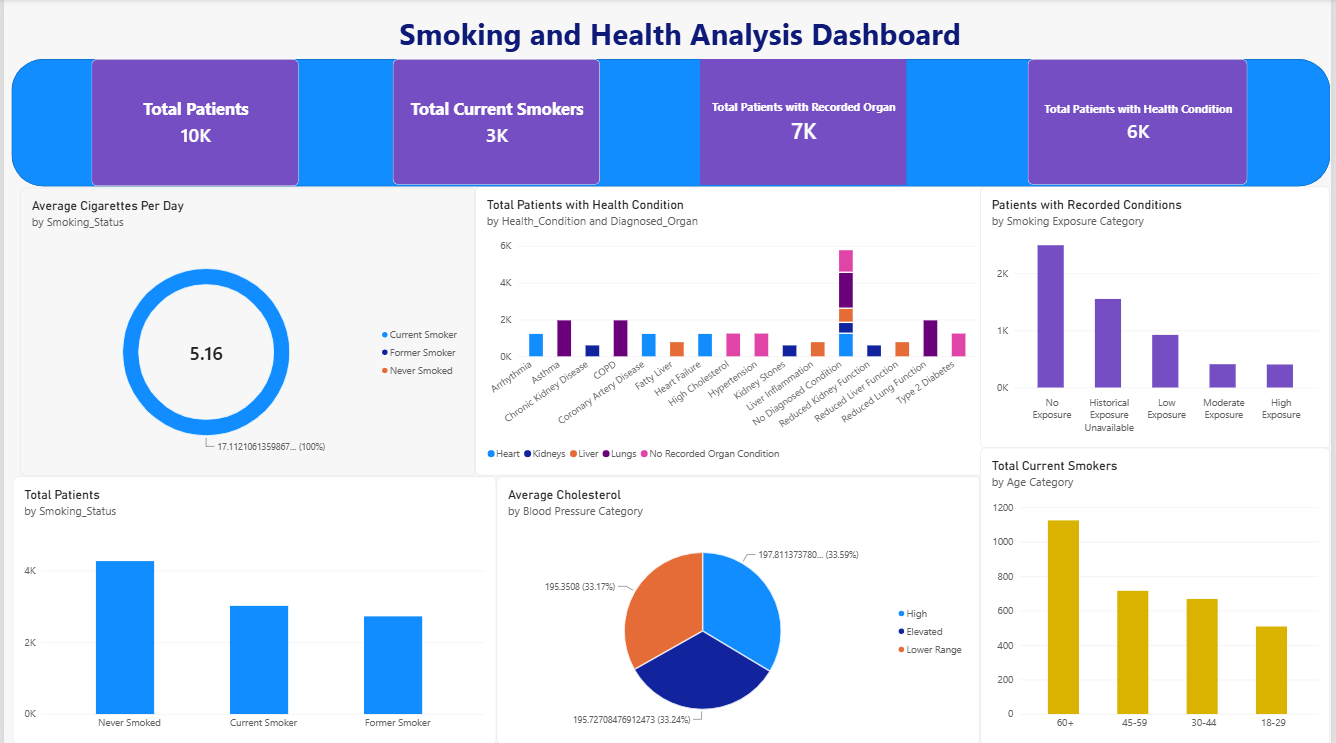

This screenshot's page, from the dashboard's own definition file:
{"tool":"powerbi","page":{"name":"Page 1","canvas":[1920,1080],"ordinal":0},"visuals":[{"type":"textbox","box":[10,580,280,280],"z":0},{"type":"donutChart","fields":{"Category":["Smoking_Health_Analysis.Smoking_Status"],"Y":["Smoking_Health_Analysis.Average Cigarettes Per Day"]},"box":[23.5,273.3,658.7,417.8],"z":1000},{"type":"columnChart","fields":{"Category":["Smoking_Health_Analysis.Health_Condition"],"Series":["Smoking_Health_Analysis.Diagnosed_Organ"],"Y":["Smoking_Health_Analysis.Total Patients with Health Condition"]},"box":[682.2,271.4,743.8,418],"z":2000},{"type":"columnChart","fields":{"Category":["Smoking_Health_Analysis.Smoking_Status"],"Y":["Smoking_Health_Analysis.Total Patients"]},"box":[12.7,691.3,700.3,389.1],"z":3000},{"type":"pieChart","fields":{"Category":["Smoking_Health_Analysis.Blood Pressure Category"],"Y":["Smoking_Health_Analysis.Average Cholesterol"]},"box":[713,691.3,700.3,389.1],"z":4000},{"type":"clusteredColumnChart","fields":{"Category":["Smoking_Health_Analysis.Age Category"],"Y":["Smoking_Health_Analysis.Total Current Smokers"]},"box":[1413.3,649.7,506.7,430.7],"z":5000},{"type":"columnChart","fields":{"Category":["Smoking_Health_Analysis.Smoking Exposure Category"],"Y":["Smoking_Health_Analysis.Patients with Recorded Conditions"]},"box":[1413.3,271.4,506.7,378.2],"z":6000},{"type":"shape","box":[10.9,86.9,1909.2,184.6],"z":7000},{"type":"cardVisual","fields":{"Data":["Smoking_Health_Analysis.Total Patients with Recorded Organ"]},"box":[1008,86.9,298.6,182.8],"z":7010},{"type":"cardVisual","fields":{"Data":["Smoking_Health_Analysis.Total Patients with Health Condition"]},"box":[1482.1,86.9,318.5,182.8],"z":7011},{"type":"cardVisual","fields":{"Data":["Smoking_Health_Analysis.Total Patients"]},"box":[126.7,86.9,300.4,184.6],"z":7012},{"type":"cardVisual","fields":{"Data":["Smoking_Health_Analysis.Total Current Smokers"]},"box":[562.8,86.9,300.4,182.8],"z":7013},{"type":"textbox","box":[99.5,19.9,1759,94.1],"z":7015}]}

Visuals, with their boxes in screenshot pixels (x1, y1, x2, y2), scaled from the page's 1920x1080 canvas onto the 1336x743 screenshot:
textbox: (left=7, top=399, right=202, bottom=592)
donutChart - Smoking_Health_Analysis.Smoking_Status x Smoking_Health_Analysis.Average Cigarettes Per Day: (left=16, top=188, right=475, bottom=475)
columnChart - Smoking_Health_Analysis.Health_Condition x Smoking_Health_Analysis.Diagnosed_Organ: (left=475, top=187, right=992, bottom=474)
columnChart - Smoking_Health_Analysis.Smoking_Status x Smoking_Health_Analysis.Total Patients: (left=9, top=476, right=496, bottom=742)
pieChart - Smoking_Health_Analysis.Blood Pressure Category x Smoking_Health_Analysis.Average Cholesterol: (left=496, top=476, right=983, bottom=742)
clusteredColumnChart - Smoking_Health_Analysis.Age Category x Smoking_Health_Analysis.Total Current Smokers: (left=983, top=447, right=1335, bottom=742)
columnChart - Smoking_Health_Analysis.Smoking Exposure Category x Smoking_Health_Analysis.Patients with Recorded Conditions: (left=983, top=187, right=1335, bottom=447)
shape: (left=8, top=60, right=1335, bottom=187)
cardVisual - Smoking_Health_Analysis.Total Patients with Recorded Organ: (left=701, top=60, right=909, bottom=186)
cardVisual - Smoking_Health_Analysis.Total Patients with Health Condition: (left=1031, top=60, right=1253, bottom=186)
cardVisual - Smoking_Health_Analysis.Total Patients: (left=88, top=60, right=297, bottom=187)
cardVisual - Smoking_Health_Analysis.Total Current Smokers: (left=392, top=60, right=601, bottom=186)
textbox: (left=69, top=14, right=1293, bottom=78)
